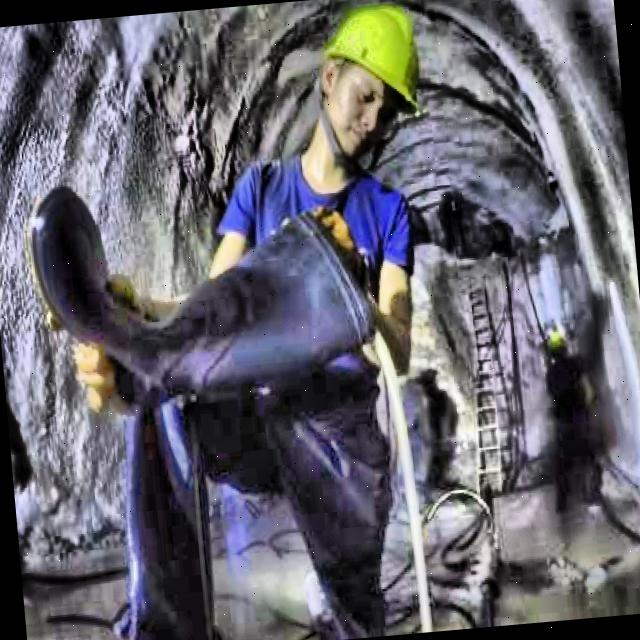helmet: (300, 0, 440, 166)
